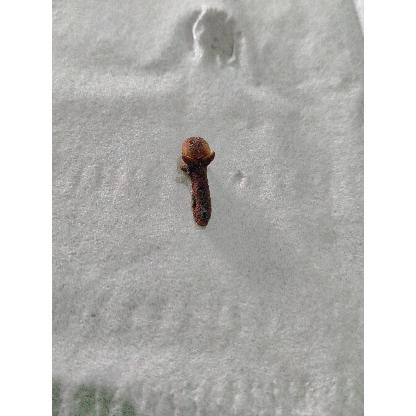baik: (181, 137, 215, 229)
